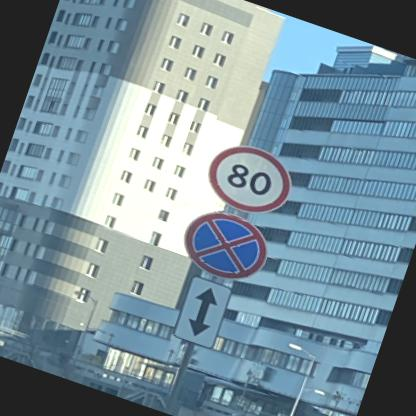speedlimit: (197, 134, 298, 221)
